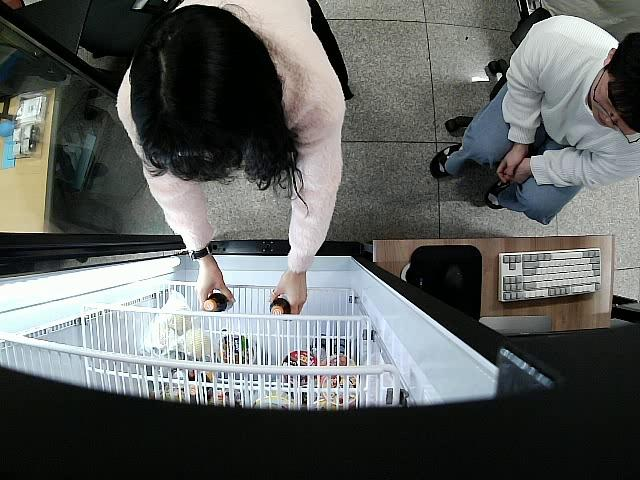00_hand: (195, 261, 236, 305), (267, 273, 306, 314)
17_vita500: (201, 294, 233, 312), (269, 298, 293, 316)
